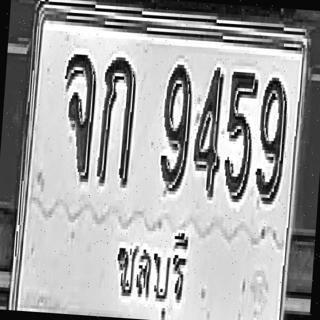A01: (96, 53, 138, 188)
A08: (57, 50, 98, 182)
N04: (190, 64, 226, 199)
N05: (222, 68, 258, 203)
N09: (253, 74, 289, 205), (158, 60, 193, 192)
P13: (108, 215, 192, 320)
